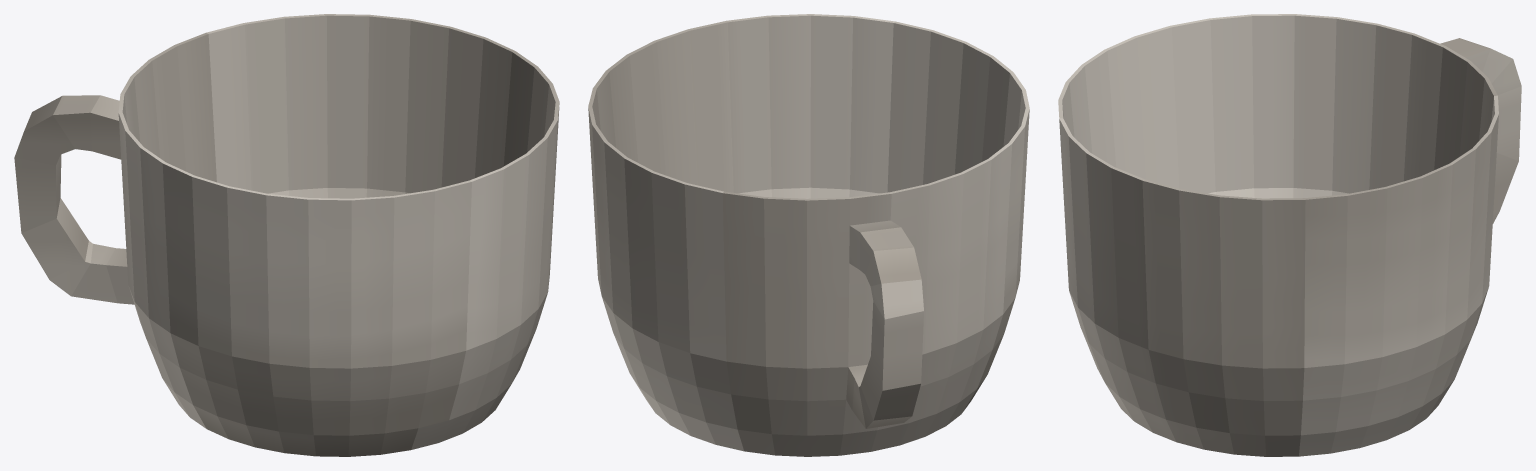
Rendered from chicara.fbx.
The picture shows the model from 3 angles, left to right: view 1: azimuth 30°, elevation 25°; view 2: azimuth 150°, elevation 25°; view 3: azimuth 270°, elevation 25°; orthographic projection.
Parts seen in each view (by area): view 1: chicara1; view 2: chicara1; view 3: chicara1.
Part boxes in pixels (<box>): chicara1: <box>14,14,559,456</box>; chicara1: <box>588,14,1029,456</box>; chicara1: <box>1058,14,1521,456</box>.
Size of the model in its own units: 24.99 by 16.27 by 24.42.
Materials: 1 (1 with a texture image).
